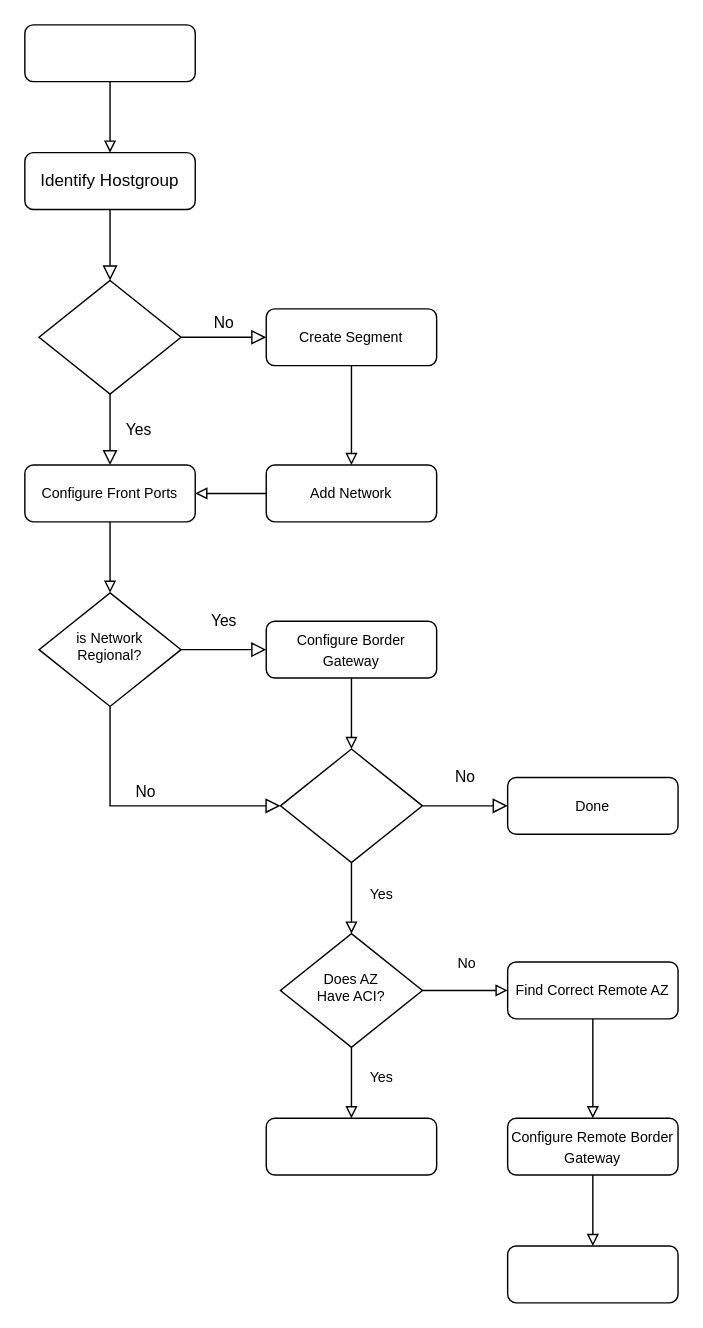
Some shapes in this 703 by 1328 pixel diagram are drawn without their labels. Each missing label, with the centre of its shape:
Bind Port: point (109, 52)
Configure Local Transit Leaf: point (351, 1146)
Configure Remote Transit Leaf: point (592, 1274)
Does Region Have ACI?: point (350, 805)
Network Present?: point (109, 336)
